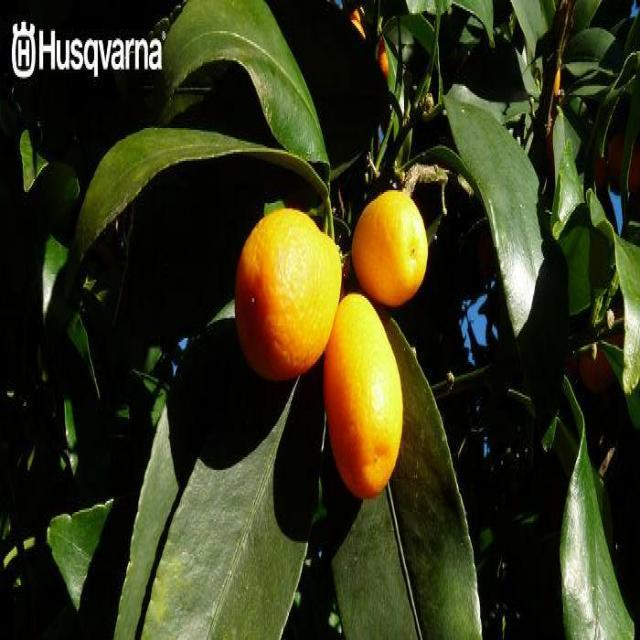Jeruk Sudah Matang: (233, 207, 344, 384), (324, 293, 403, 503), (352, 190, 429, 309)
